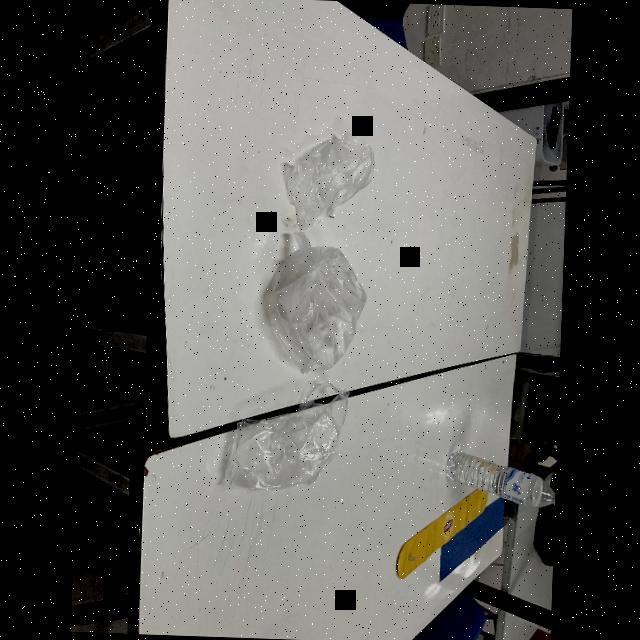plastic_bag: (262, 231, 370, 375), (225, 378, 347, 492), (276, 129, 376, 231)
